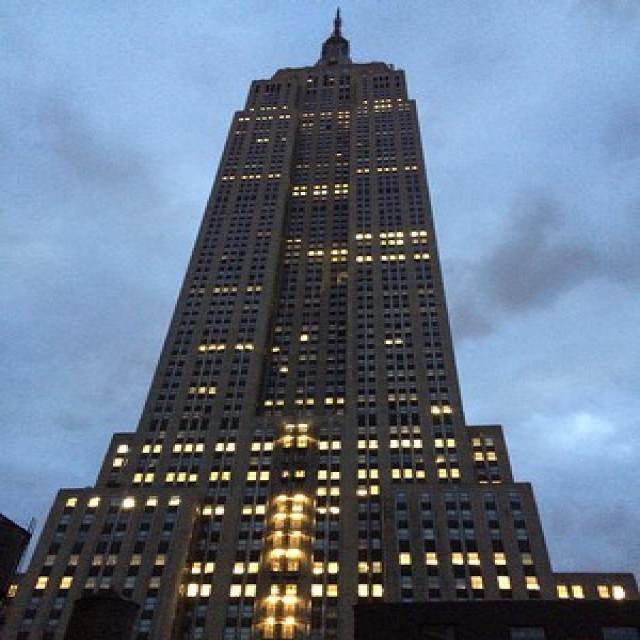Normal_building: (2, 49, 573, 640)
